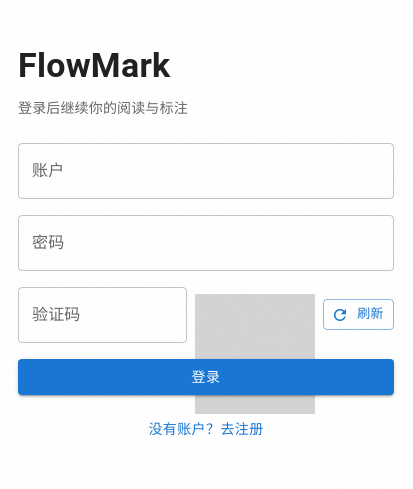
Test: LoginPage › submits register payload and switches back to login mode on success
Click the button "没有账户？去注册" at {"x": 206, "y": 429}, box [18,411,394,448]
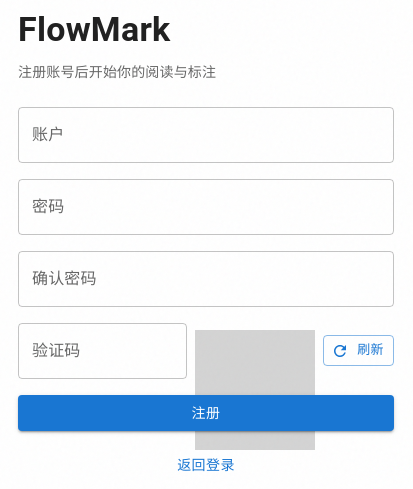
Type " new-user " into the field labelled "账户" at {"x": 206, "y": 134}, box [18,106,394,162]
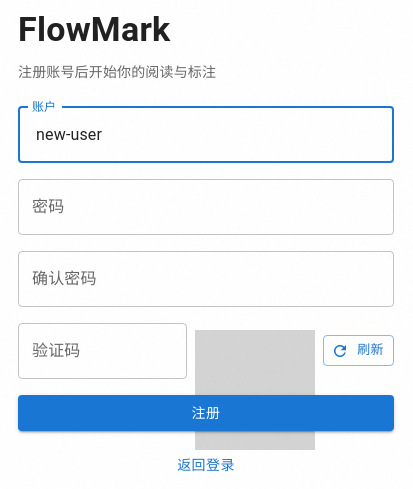
Type "pass123" into the password field labelled "密码" at {"x": 206, "y": 206}, box [18,178,394,234]
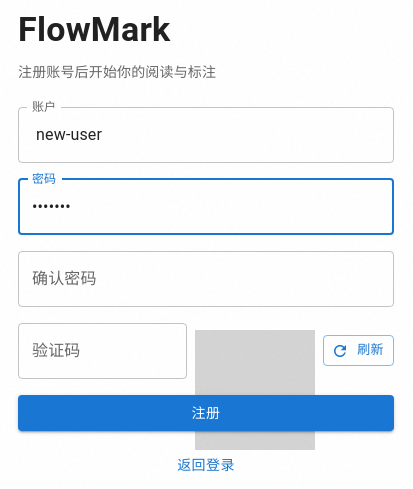
Type "pass123" into the password field labelled "确认密码" at {"x": 206, "y": 278}, box [18,250,394,306]
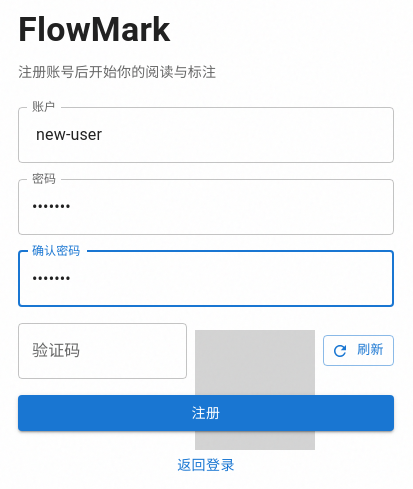
Type "a1b2" into the field labelled "验证码" at {"x": 103, "y": 350}, box [18,322,187,378]
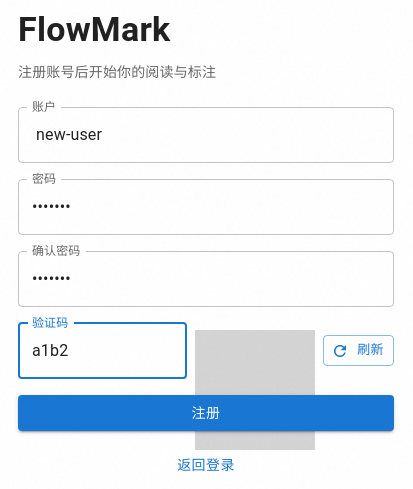
Click the button "注册" at {"x": 206, "y": 413}, box [18,394,394,431]
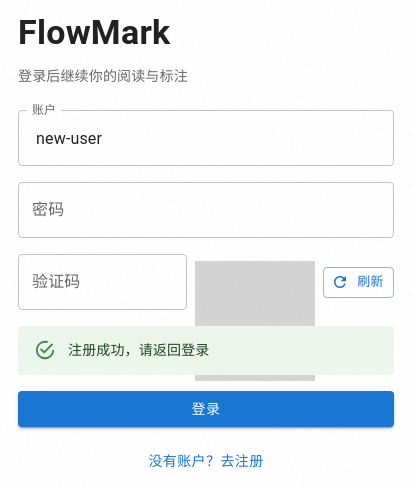
Now the text "注册成功，请返回登录" is shown, box [68,342,210,358]
Now the button "登录" is shown, box [18,390,394,427]
